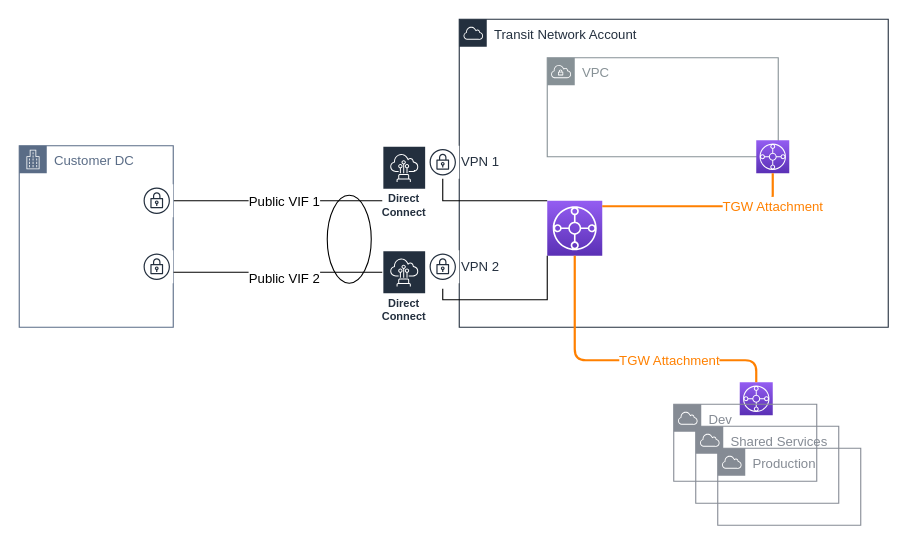
Some shapes in this 908 by 545 pixel diagram are drawn without their labels. The centre of each missing label's shape, as x and y in pixels:
"Customer GW 1" belongs at (156,200).
"Customer GW 2" belongs at (156,266).
"ECMP" belongs at (348,238).
"Transit GW" belongs at (574,228).
